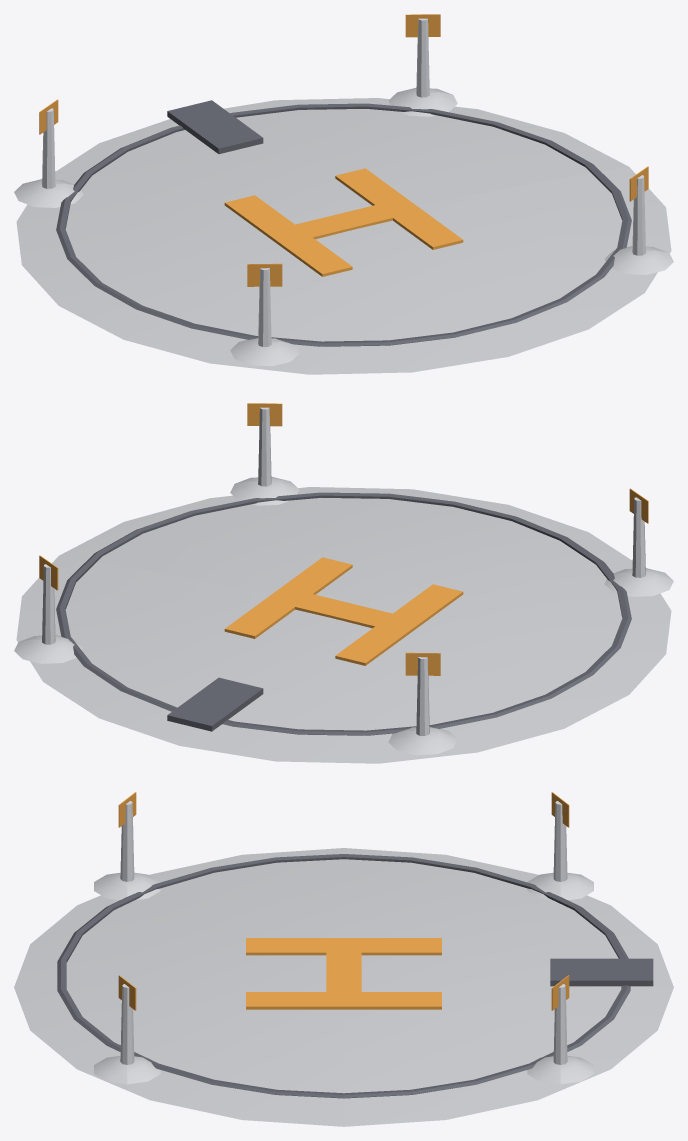
File: backcountry-snowboarding-and-avalanche-safety-helicopt-a682e1f5__18957.glb
The picture shows the model from 3 angles, top to bottom: view 1: azimuth 30°, elevation 25°; view 2: azimuth 150°, elevation 25°; view 3: azimuth 270°, elevation 25°; orthographic projection.
Visible parts, largest first — view 1: helicopter-pad-marker; view 2: helicopter-pad-marker; view 3: helicopter-pad-marker.
Part boxes in pixels (x1=…): helicopter-pad-marker: x1=14, y1=14, x2=673, y2=374; helicopter-pad-marker: x1=14, y1=403, x2=673, y2=763; helicopter-pad-marker: x1=14, y1=792, x2=673, y2=1126.
Bounding box in the file's own units: 6.4 × 1.04 × 6.4.
